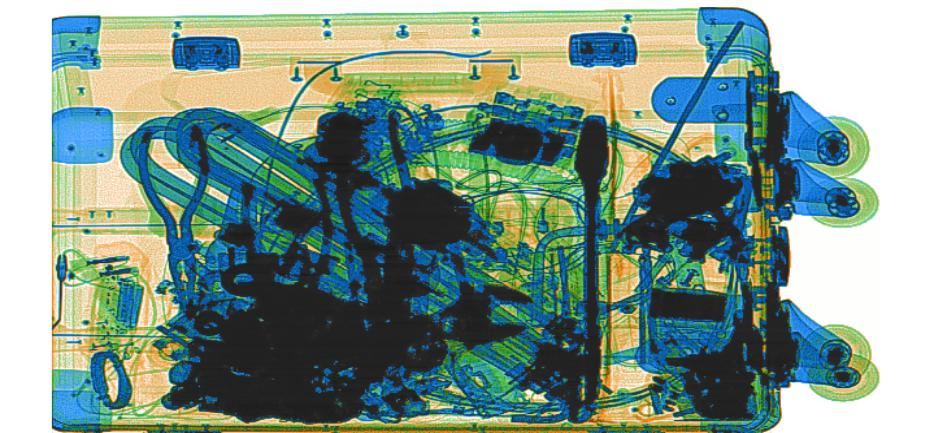battery: (115, 280, 144, 328)
